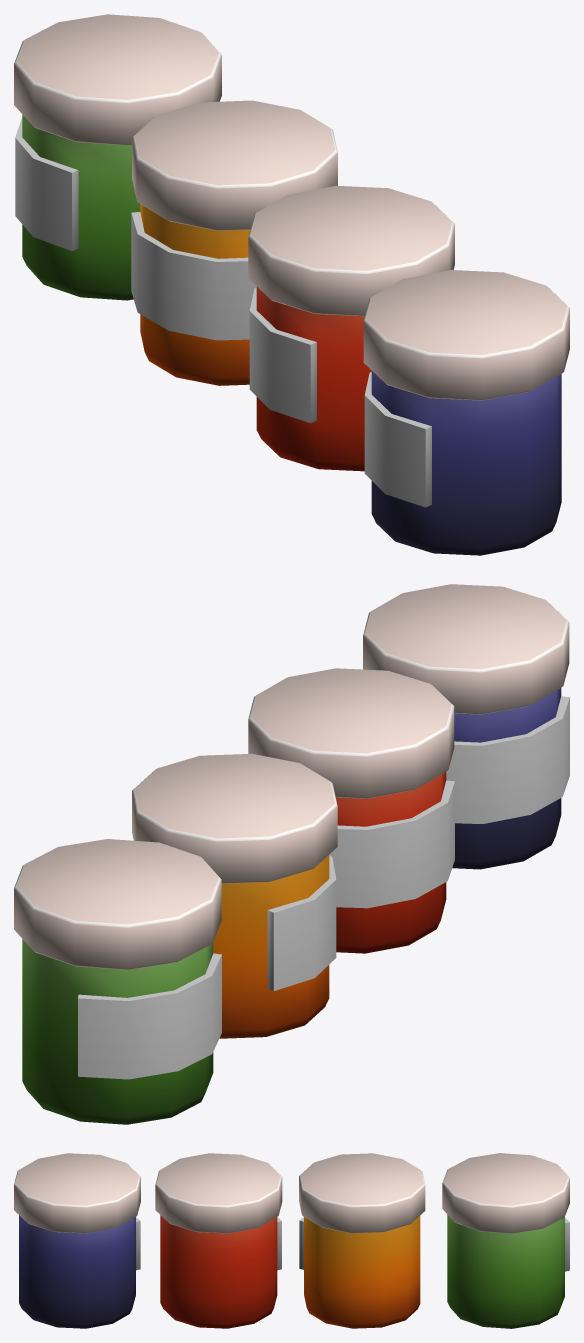
Rendered from Marmeladengläser2.fbx.
3 views of the same model, one above another, from view 1: azimuth 30°, elevation 25°; view 2: azimuth 150°, elevation 25°; view 3: azimuth 270°, elevation 25° (orthographic). The views are drawn at different scales.
Visible parts, largest first — view 1: Cylinder.022, Cylinder.025, Cylinder.024, Cylinder.023; view 2: Cylinder.025, Cylinder.023, Cylinder.024, Cylinder.022; view 3: Cylinder.025, Cylinder.023, Cylinder.024, Cylinder.022.
Part boxes in pixels (bbox=[...]): Cylinder.022: bbox=[363, 270, 569, 555]; Cylinder.025: bbox=[14, 14, 221, 300]; Cylinder.024: bbox=[131, 100, 337, 385]; Cylinder.023: bbox=[248, 185, 454, 471]; Cylinder.025: bbox=[14, 839, 221, 1124]; Cylinder.023: bbox=[248, 668, 454, 953]; Cylinder.024: bbox=[132, 753, 337, 1038]; Cylinder.022: bbox=[363, 584, 569, 869]; Cylinder.025: bbox=[442, 1153, 569, 1328]; Cylinder.023: bbox=[155, 1153, 282, 1328]; Cylinder.024: bbox=[299, 1153, 425, 1328]; Cylinder.022: bbox=[14, 1153, 140, 1328].
Size of the model in its own units: 9.2 by 10.2 by 40.06.
